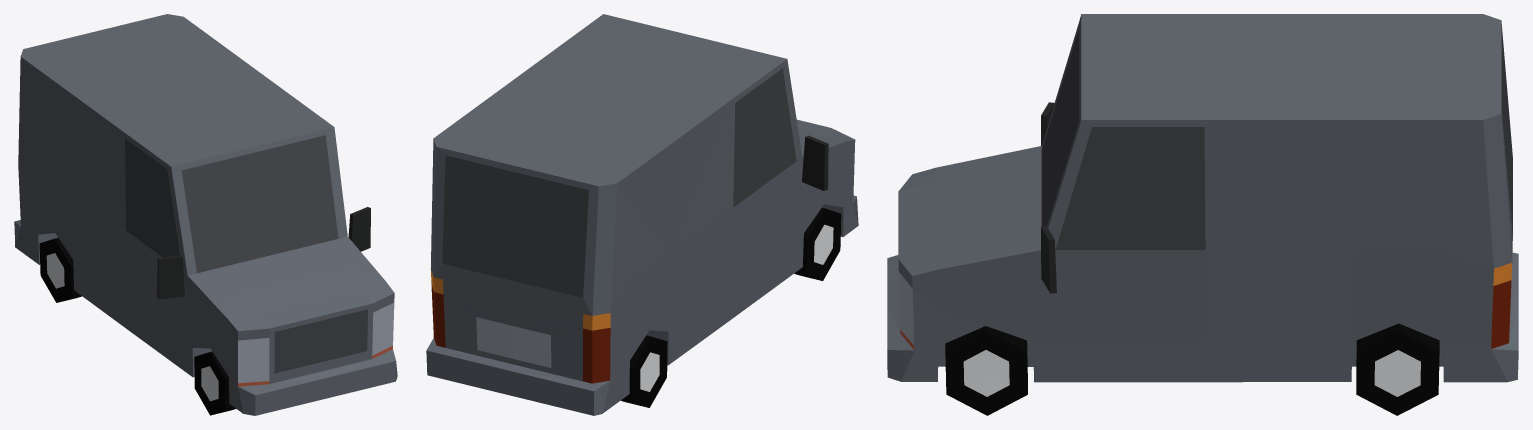
Rendered from Vehicles_Van.fbx.
The picture shows the model from 3 angles, left to right: view 1: azimuth 30°, elevation 25°; view 2: azimuth 150°, elevation 25°; view 3: azimuth 270°, elevation 25°; orthographic projection. The views are drawn at different scales.
Visible parts, largest first — view 1: Vehicles_Van; view 2: Vehicles_Van; view 3: Vehicles_Van.
Part boxes in pixels (left/top/right/bottom): Vehicles_Van: left=14, top=14, right=397, bottom=415; Vehicles_Van: left=426, top=14, right=858, bottom=415; Vehicles_Van: left=887, top=14, right=1518, bottom=415.
Bounding box in the file's own units: 227 × 229 × 439.
